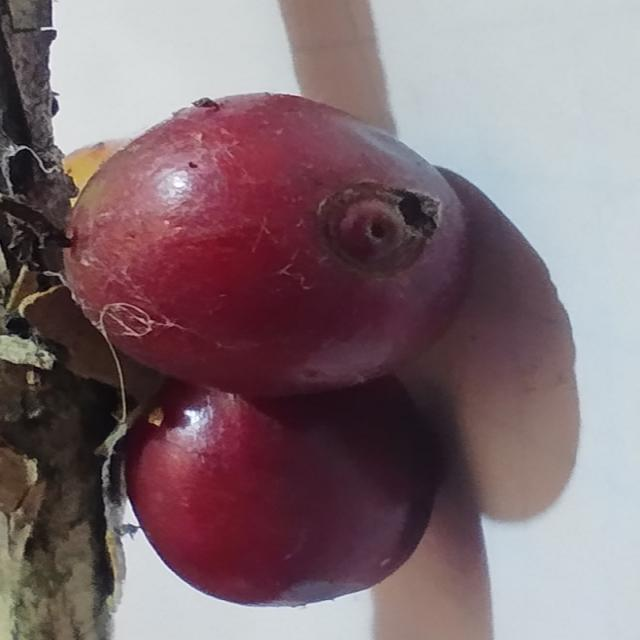Infectado: (61, 94, 473, 407)
Sano: (123, 375, 444, 609)
